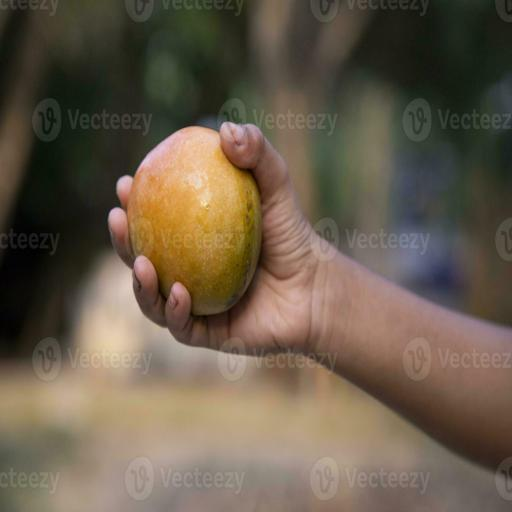mango: (128, 127, 261, 315)
